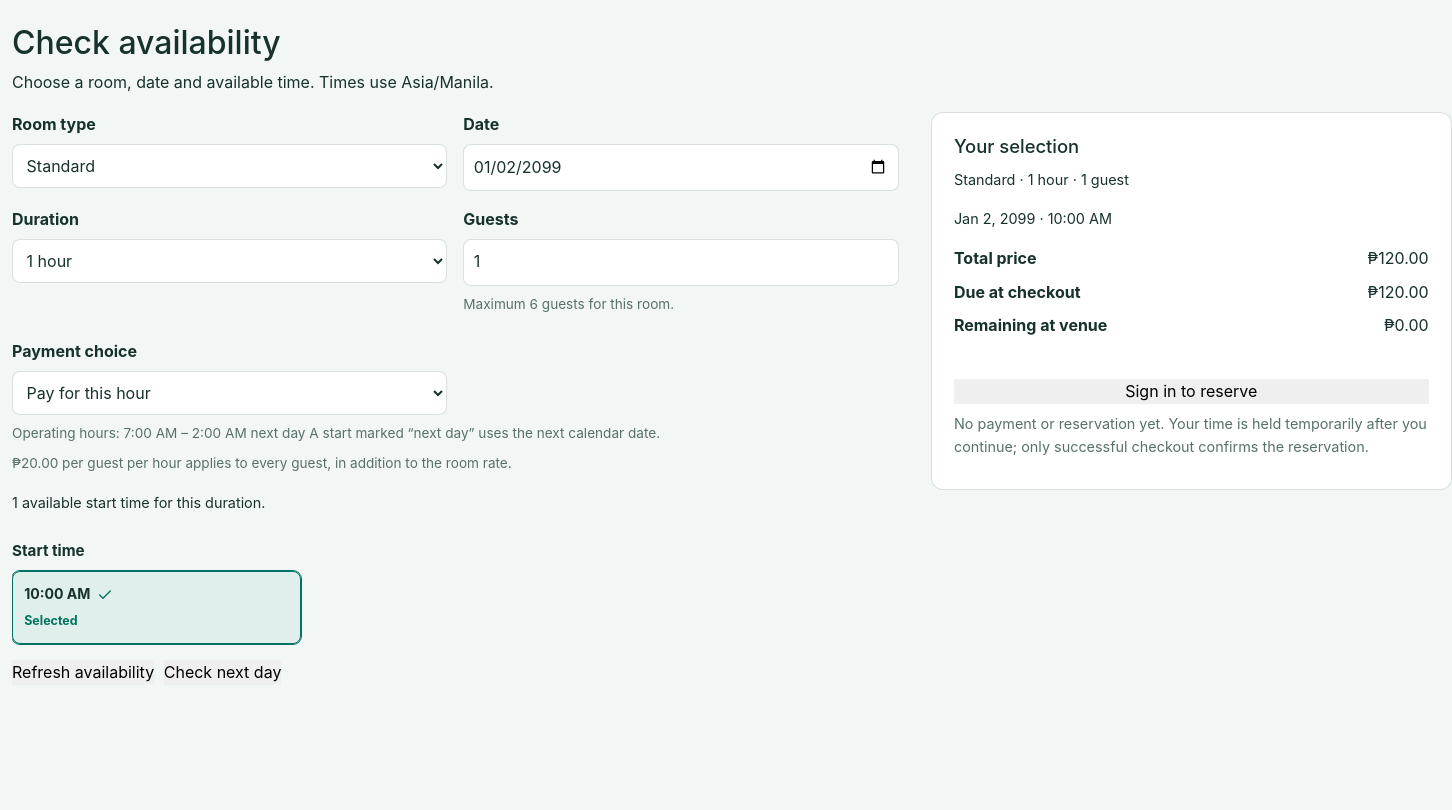
Test: public availability › invalidates a selected slot when a refreshed quote is full and keeps other choices
The width and height of the screenshot is (1452, 810).
Check: the button "Sign in to reserve" is enabled, box [954,379,1429,404]
Check: the text "applies to every guest" is shown, box [12,455,512,471]
Step 1. Select "2 hours" in the dropdown labelled "Duration" → {"x": 230, "y": 261}, box [12,239,447,283]
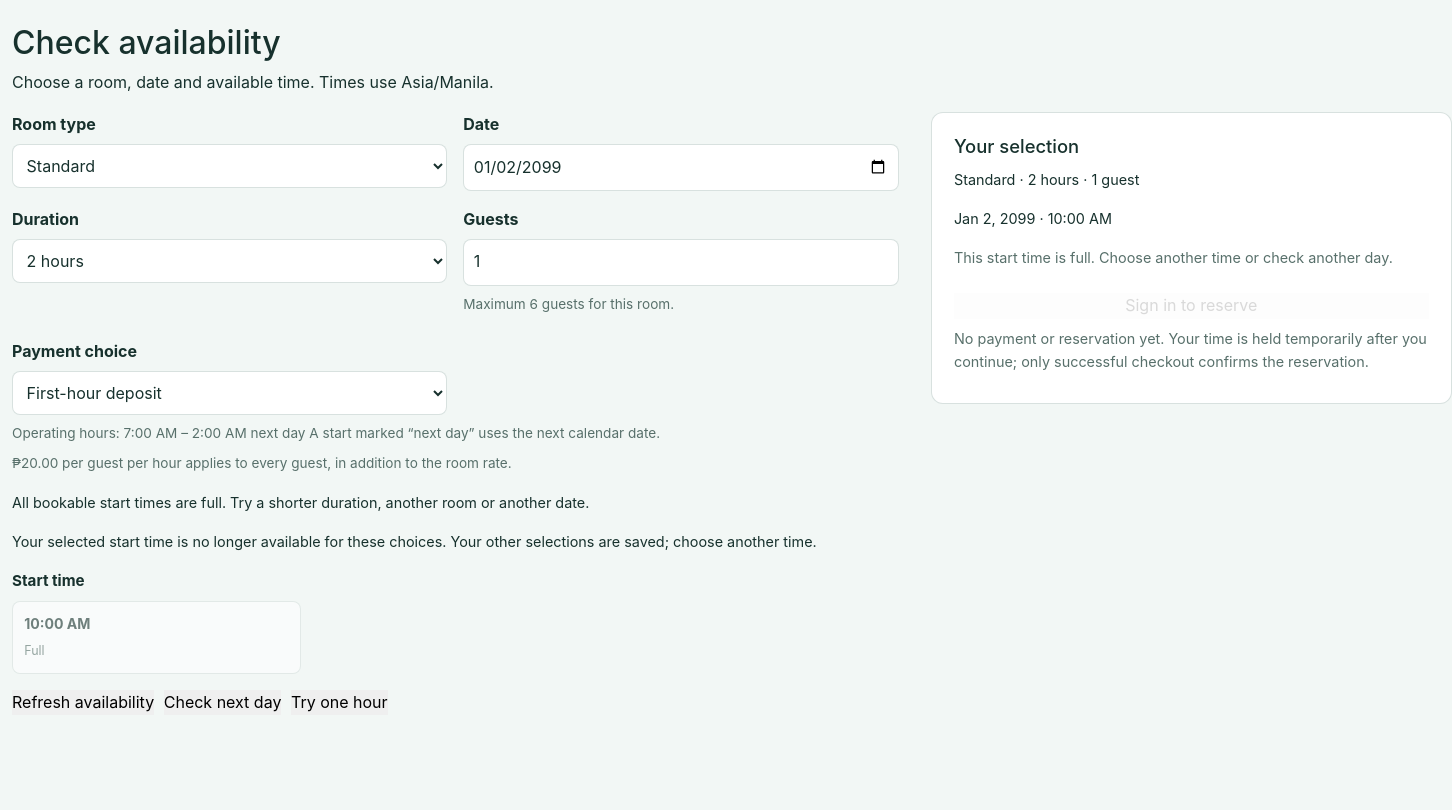
Check: the text "Your selected start time is no longer available" is shown, box [12,533,817,550]
Check: the button "Sign in to reserve" is disabled, box [954,293,1429,319]
Check: the button with aria-label "10:00 AM, Full" is disabled, box [12,601,301,674]
